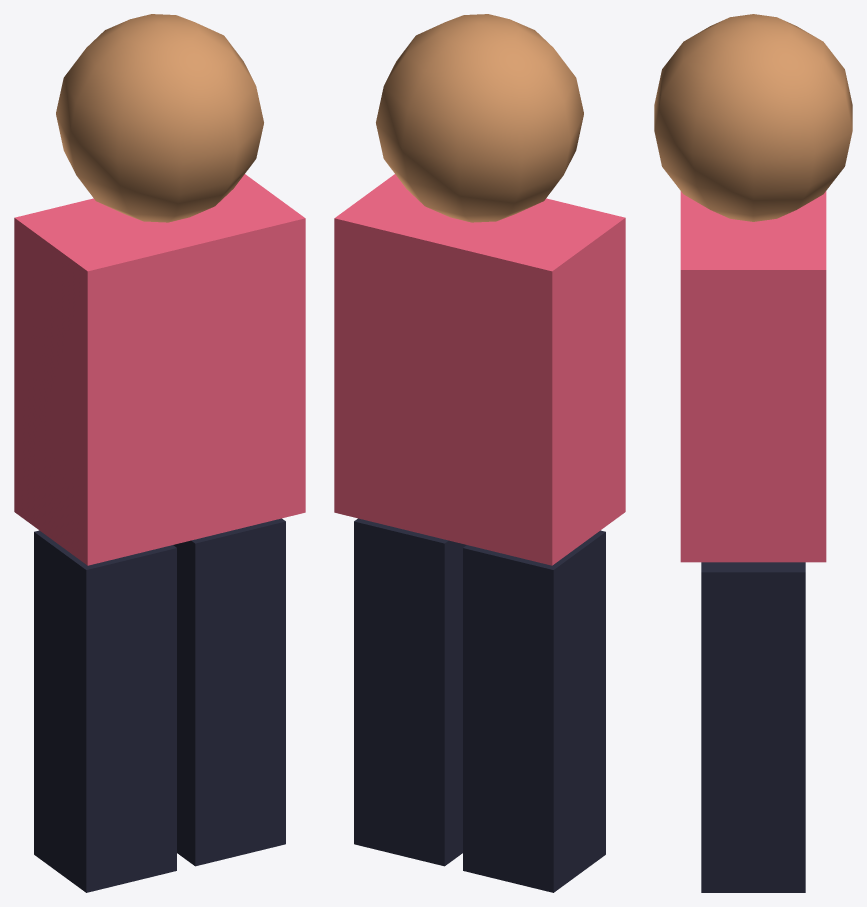
The model's file is passenger_npc.glb.
3 renders of one model, left to right at view 1: azimuth 30°, elevation 25°; view 2: azimuth 150°, elevation 25°; view 3: azimuth 270°, elevation 25°, orthographic.
Parts seen in each view (by area): view 1: passenger_npc; view 2: passenger_npc; view 3: passenger_npc.
Boxes of the visible parts, box(x1,y1,x2,y2) form: passenger_npc: box(14, 14, 305, 892); passenger_npc: box(334, 14, 625, 892); passenger_npc: box(654, 14, 852, 892).
Bounding box in the file's own units: 0.48 × 1.74 × 0.3804.
